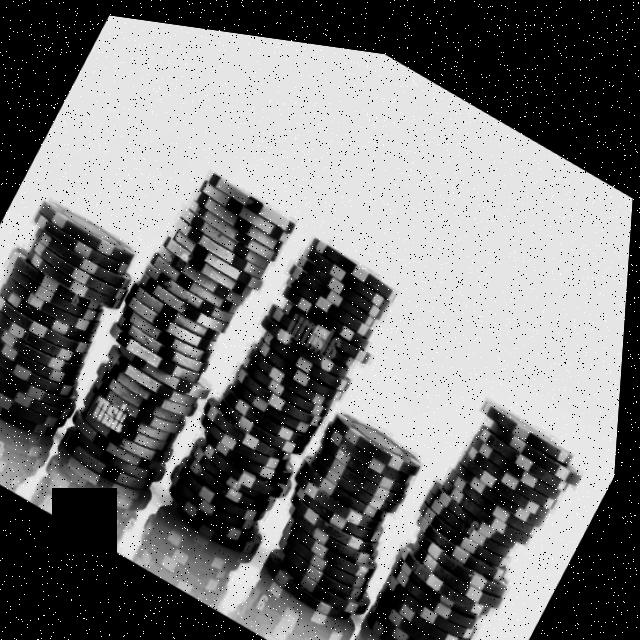Chip: (145, 189, 421, 590), (47, 134, 316, 528), (353, 357, 608, 640), (241, 374, 454, 638), (0, 178, 160, 463)
